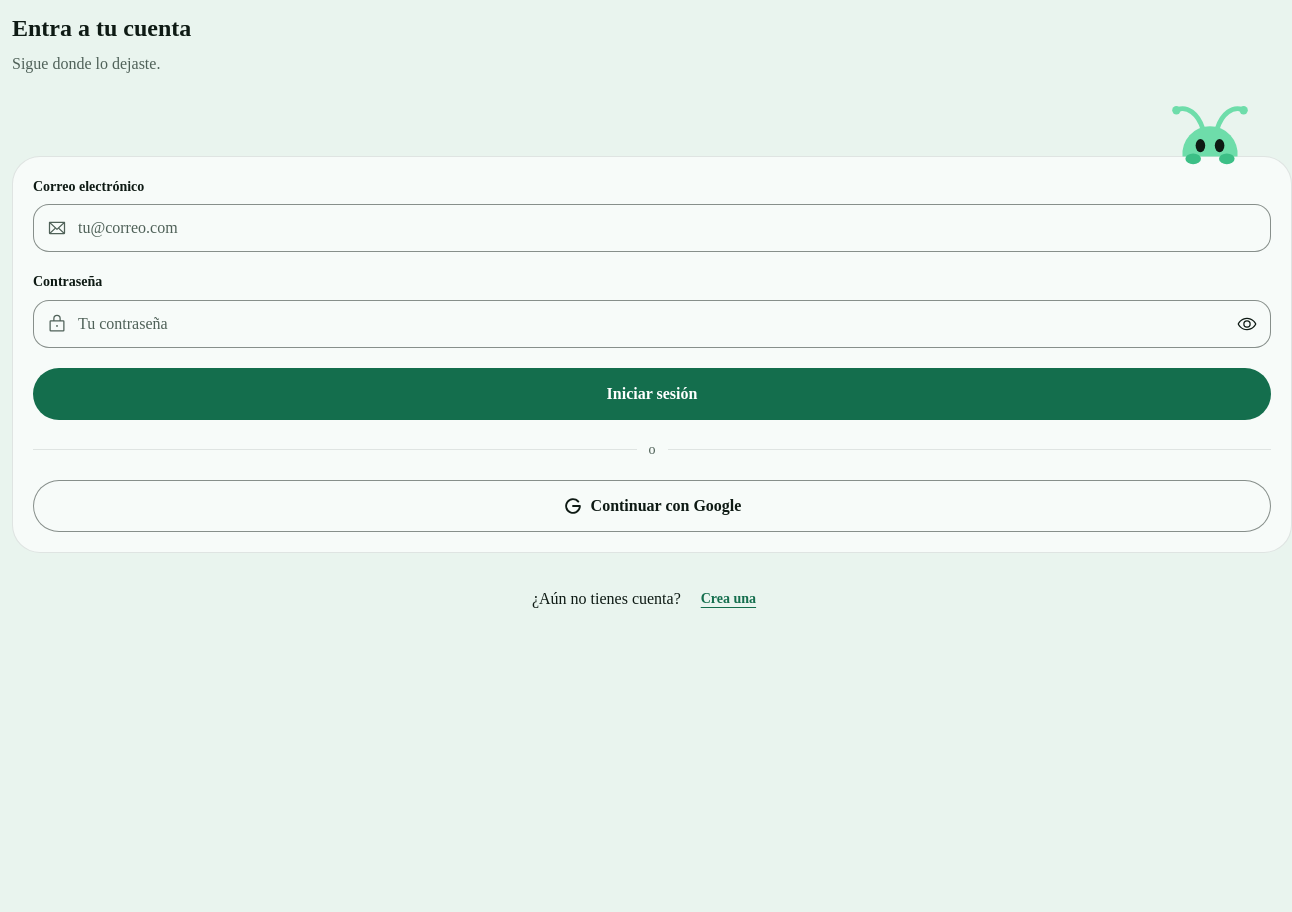
LoginForm: validation and field wiring › asks for a real email, in Spanish, instead of the browser's message
Type "ana" into the field labelled "Correo electrónico" at {"x": 652, "y": 228}, box [33,204,1271,252]
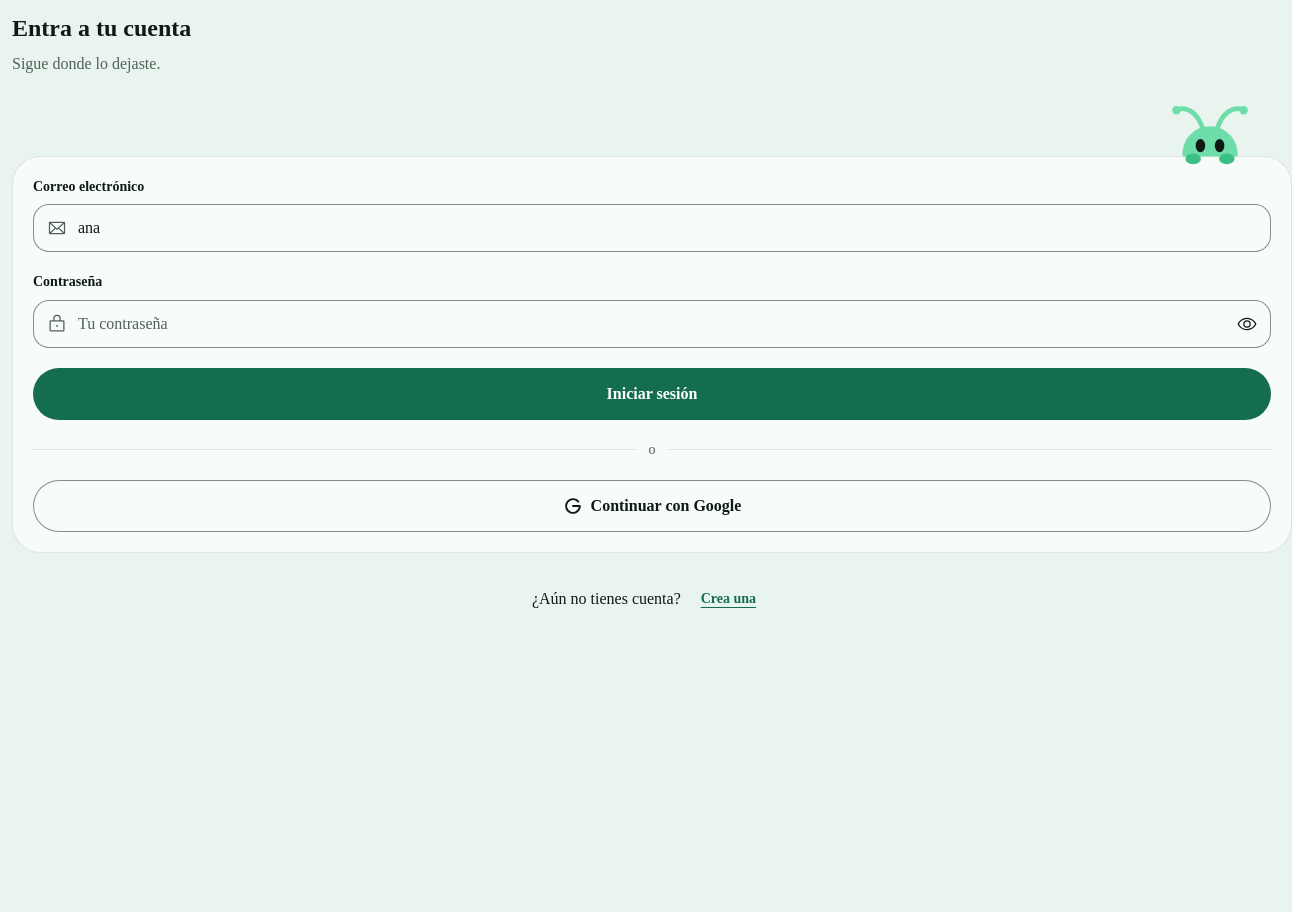
Type "secreta" into the password field labelled "Contraseña" at {"x": 652, "y": 324}, box [33,300,1271,348]
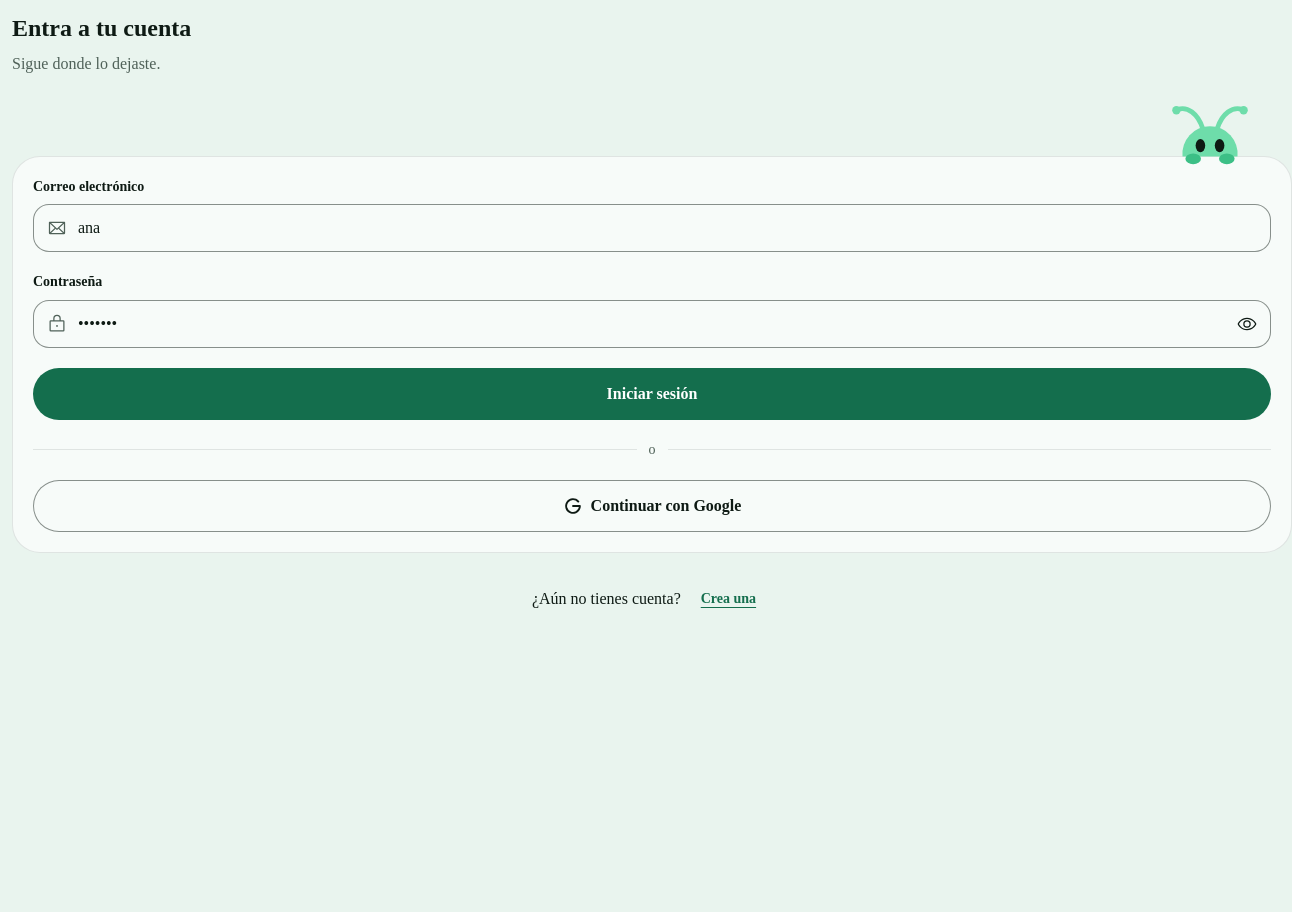
Click the button "Iniciar sesión" at {"x": 652, "y": 394}, box [33,368,1271,420]
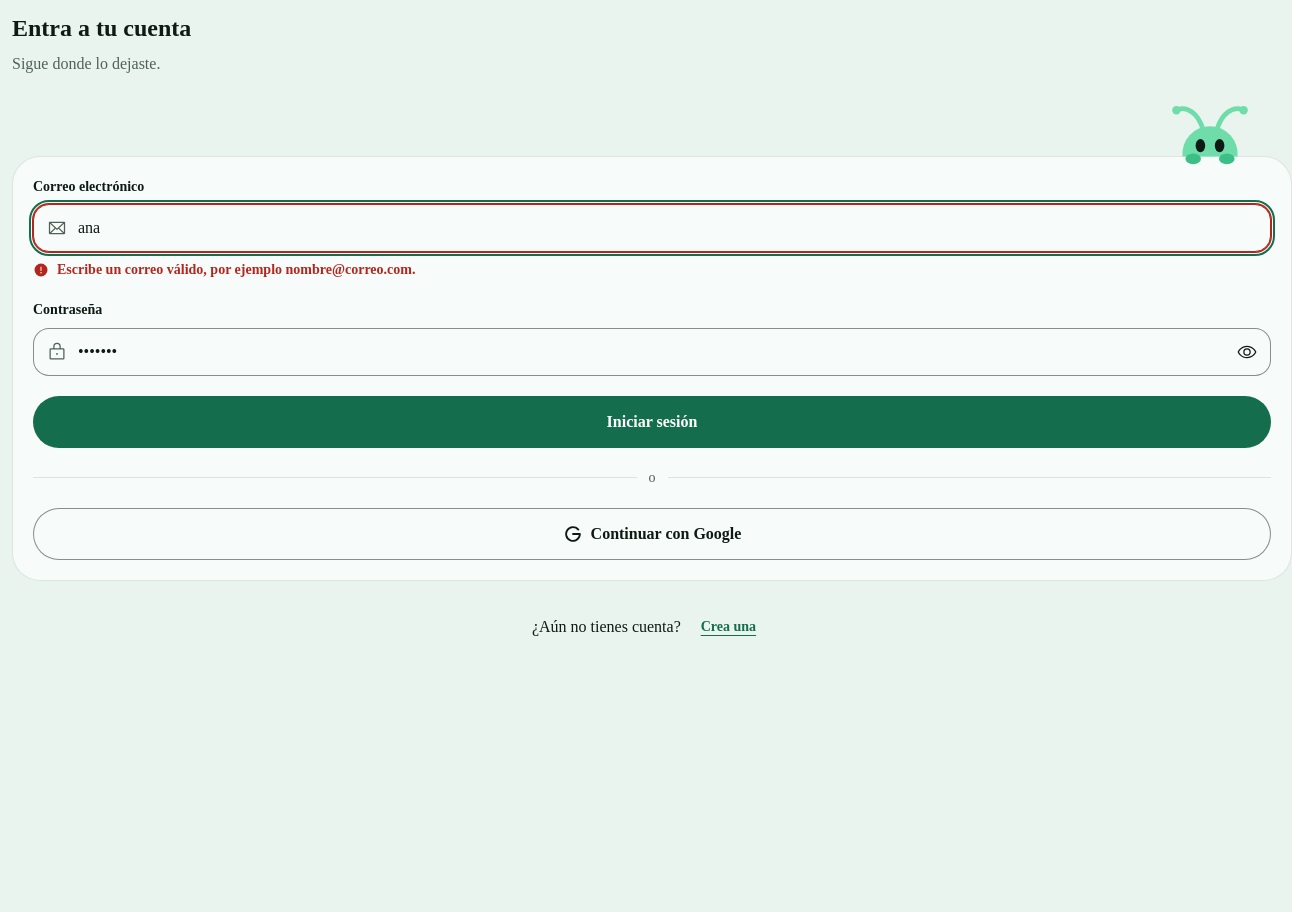
Check: the message shows "Escribe un correo válido", box [57,262,415,277]
